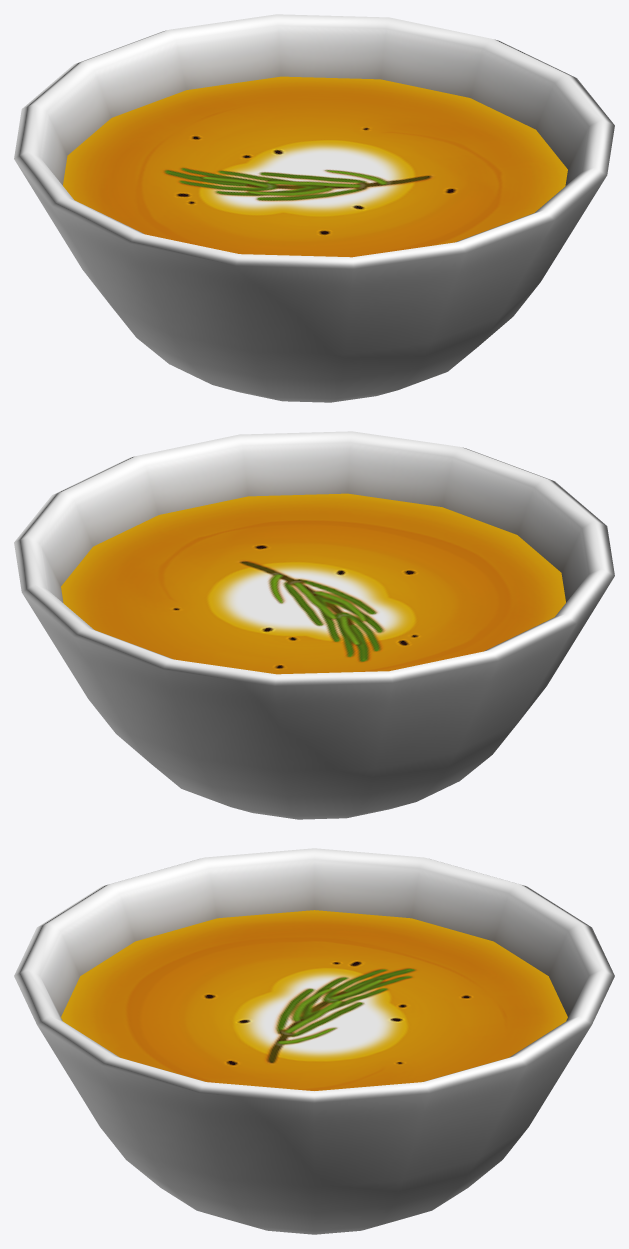
Rendered from 011-Soup_04.FBX.
3 renders of one model, top to bottom at view 1: azimuth 30°, elevation 25°; view 2: azimuth 150°, elevation 25°; view 3: azimuth 270°, elevation 25°, orthographic.
Parts seen in each view (by area): view 1: 011-Soup_04; view 2: 011-Soup_04; view 3: 011-Soup_04.
Boxes of the visible parts, bbox=[...] form: 011-Soup_04: bbox=[14, 14, 614, 402]; 011-Soup_04: bbox=[14, 431, 614, 819]; 011-Soup_04: bbox=[14, 848, 614, 1234].
Bounding box in the file's own units: 21.83 × 8.53 × 21.83.
